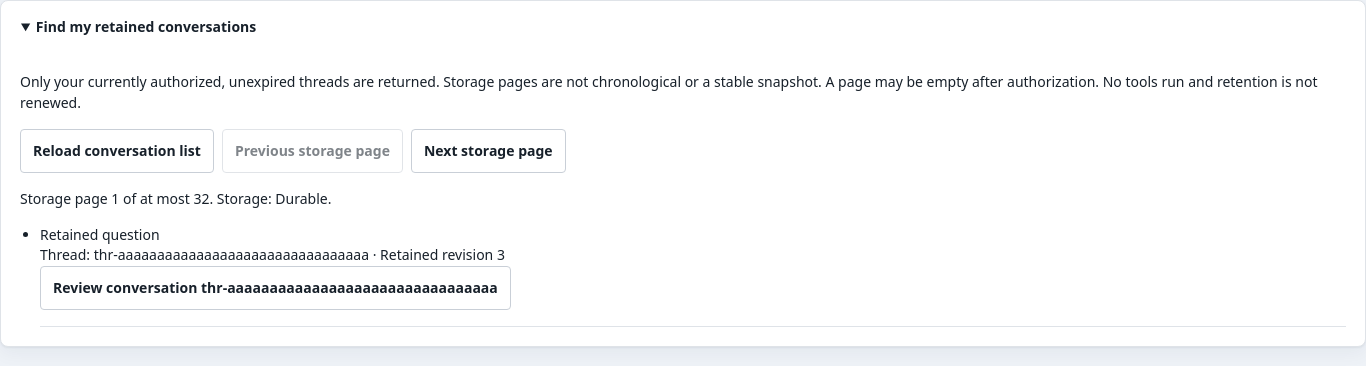
Test case: Owned Copilot thread discovery › pages explicitly, clears earlier records on failure, and reloads independently
expect the text "Retained question" is shown: met, box top-left (40, 225), bottom-right (160, 244)
Click the button "Next storage page".
click(488, 151)  # box top-left (411, 129), bottom-right (566, 173)
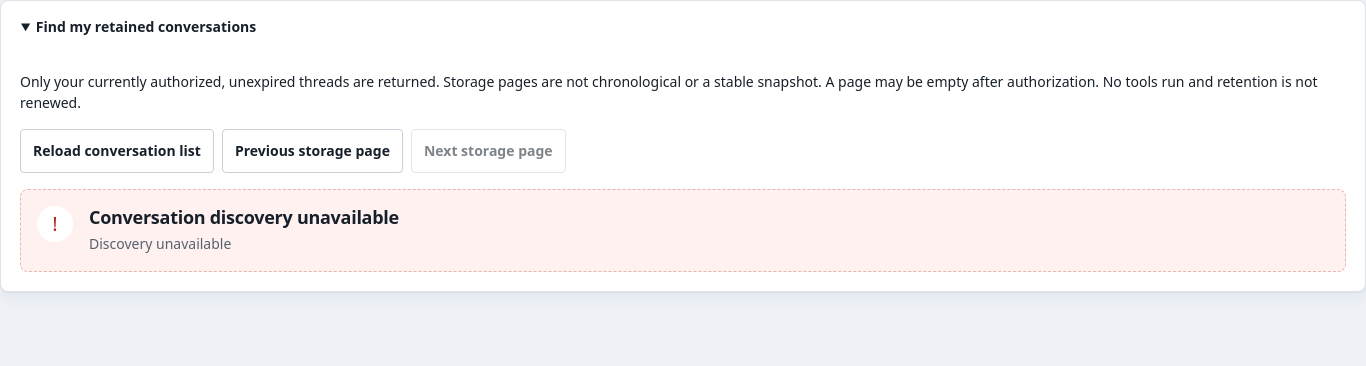
expect the text "Discovery unavailable" is shown: met, box top-left (89, 234), bottom-right (231, 253)
expect the text "Retained question" is gone: met
Click the button "Reload conversation list".
click(117, 151)  # box top-left (20, 129), bottom-right (214, 173)
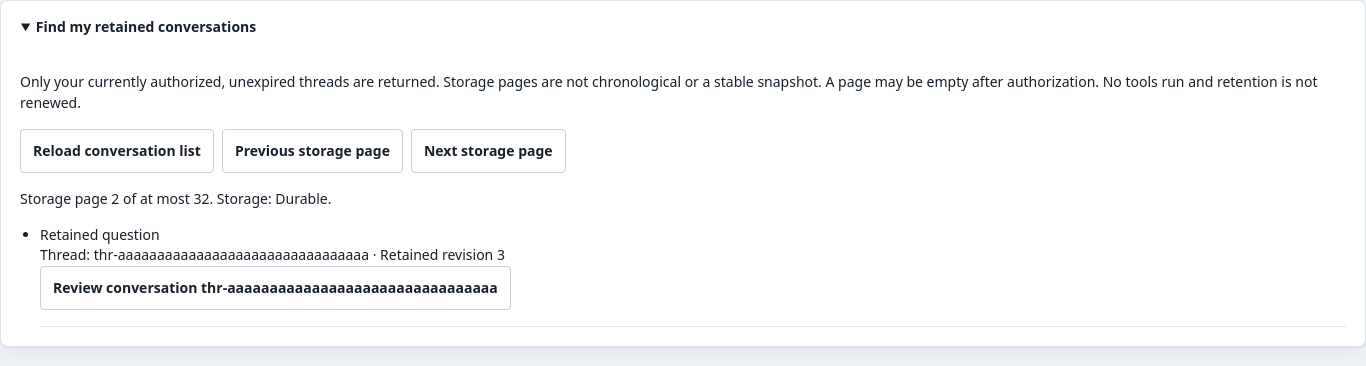
expect the text "Retained question" is shown: met, box top-left (40, 225), bottom-right (160, 244)
